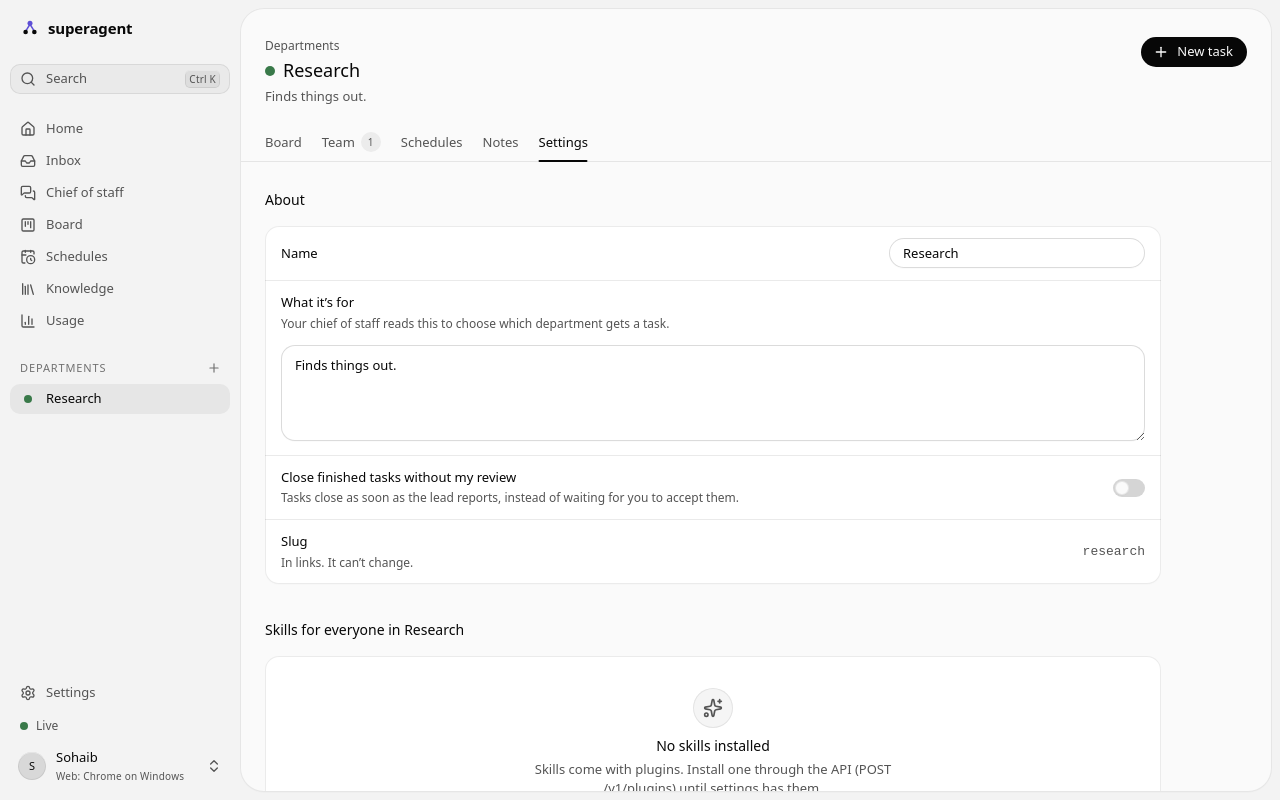
Test: a department › saves its settings, and archives only once it has no agents
Step 1. Click the switch named "close finished tasks" → coordinates (1129, 488), box [1113,479,1145,497]
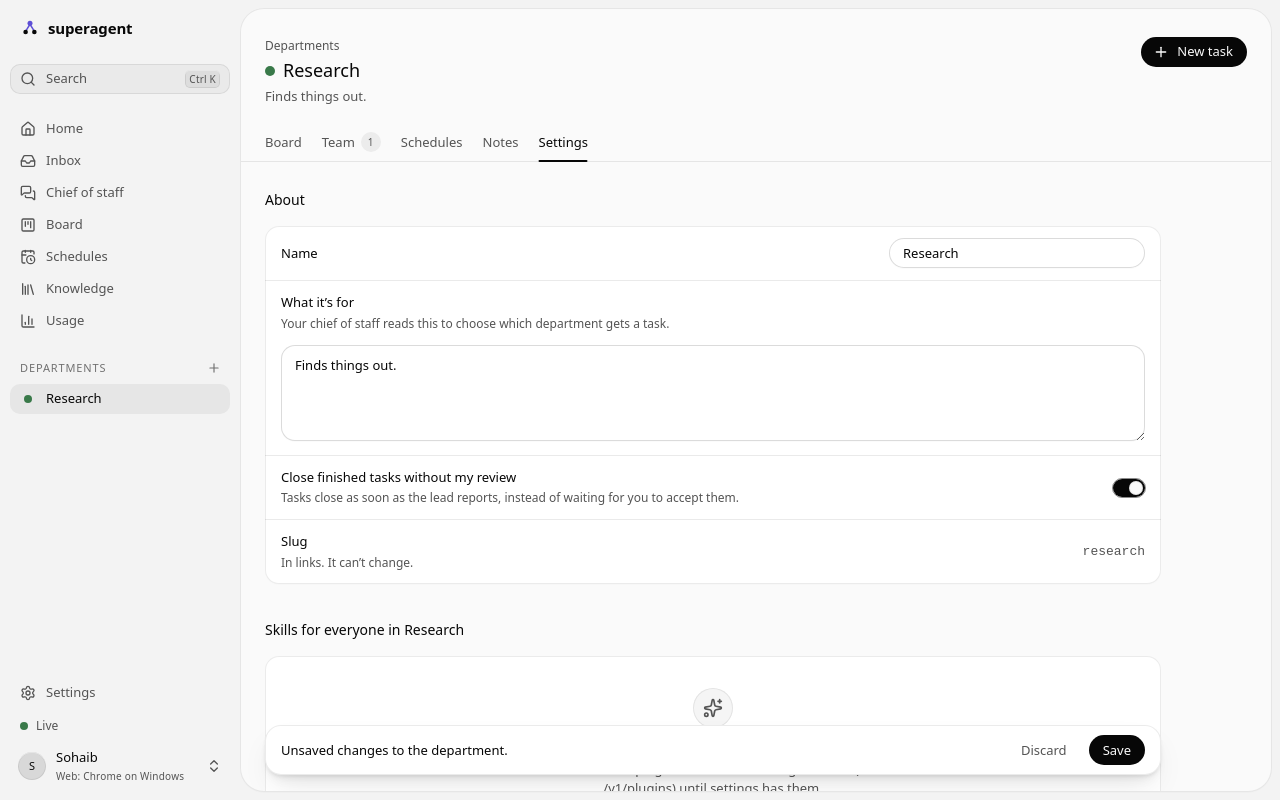
Step 2. Click the button "Save" → coordinates (1117, 750), box [1089,735,1145,765]
(page scrolled)
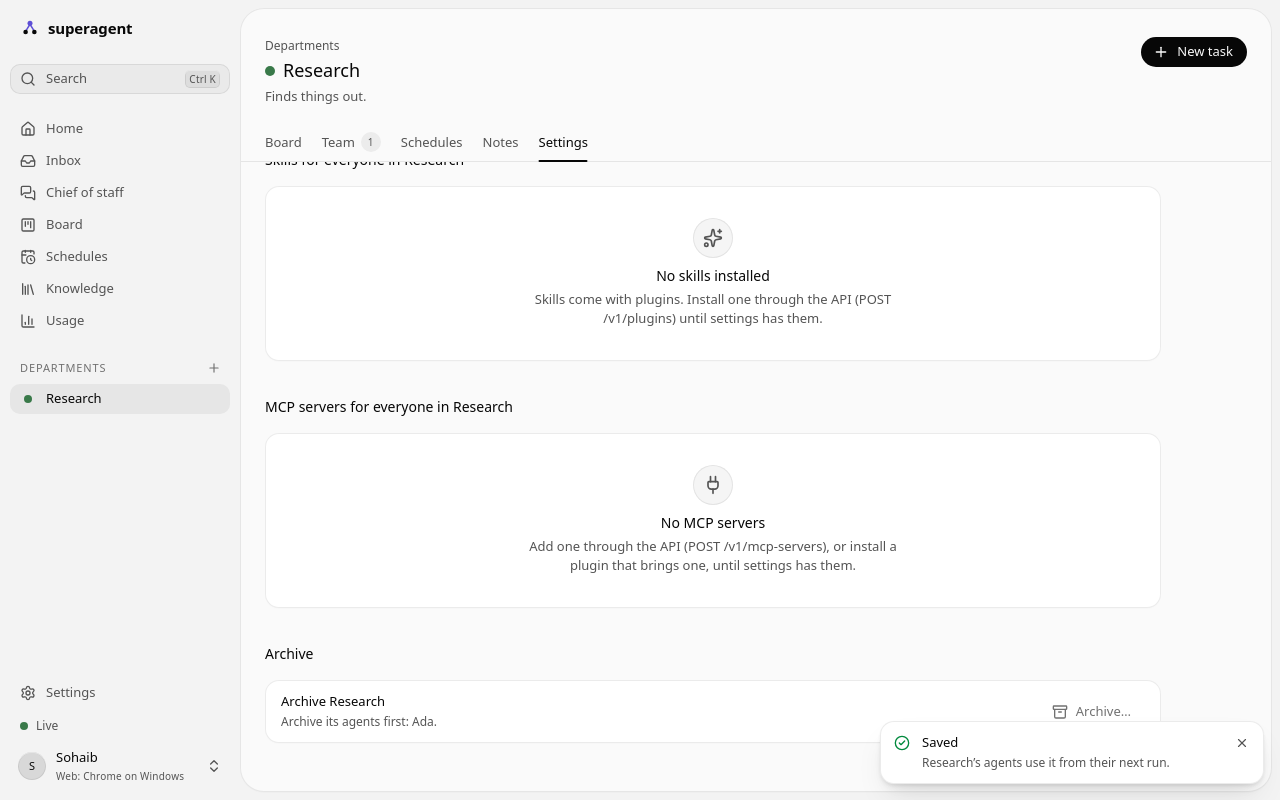
Check: the text "Archive its agents first: Ada." is shown, box [281,714,437,732]
Check: the button "Archive…" is disabled, box [1040,697,1145,727]
